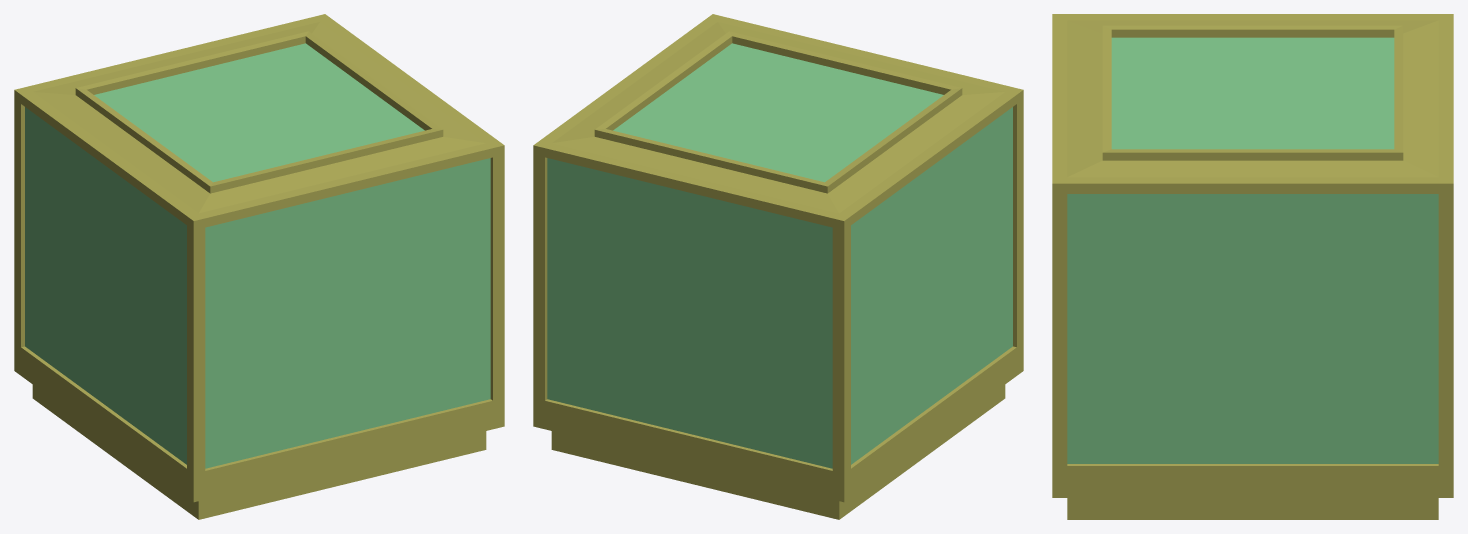
File: TempA_DisplayStand_01.fbx
The picture shows the model from 3 angles, left to right: view 1: azimuth 30°, elevation 25°; view 2: azimuth 150°, elevation 25°; view 3: azimuth 270°, elevation 25°; orthographic projection. The views are drawn at different scales.
Parts seen in each view (by area): view 1: TempA_Glass_DS_01, TempA_DisplayStand_01; view 2: TempA_Glass_DS_01, TempA_DisplayStand_01; view 3: TempA_Glass_DS_01, TempA_DisplayStand_01.
Part boxes in pixels (x1,y1,x2,y2): TempA_Glass_DS_01: [25, 43, 490, 468]; TempA_DisplayStand_01: [14, 14, 504, 519]; TempA_Glass_DS_01: [547, 43, 1012, 468]; TempA_DisplayStand_01: [533, 14, 1023, 519]; TempA_Glass_DS_01: [1067, 37, 1438, 463]; TempA_DisplayStand_01: [1052, 14, 1453, 519].
Size of the model in its own units: 3.24 by 3.14 by 3.24.
